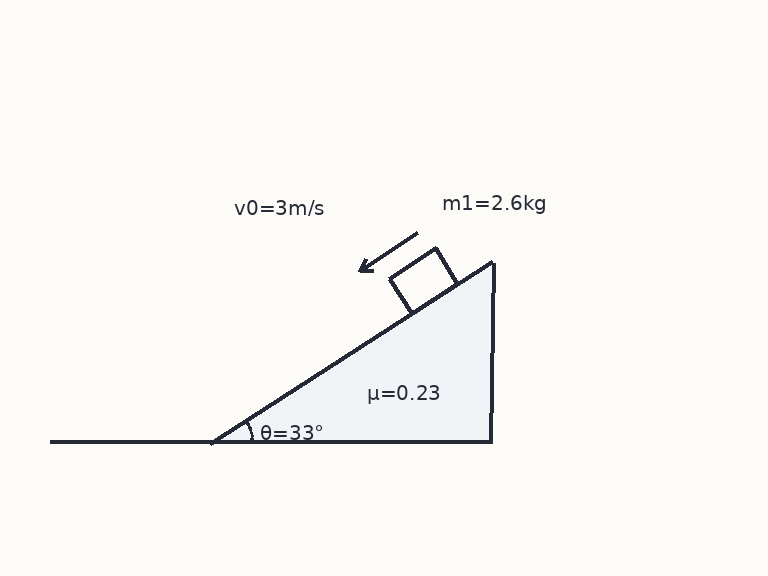block: (387, 246, 460, 315)
ramp: (210, 259, 493, 444)
